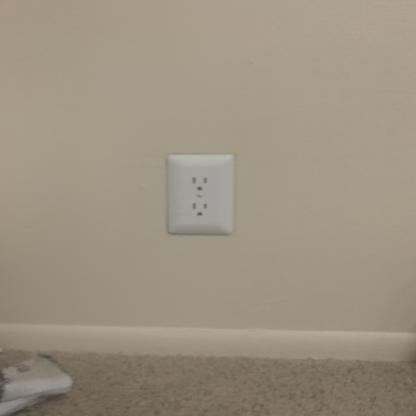OUTLET: (163, 154, 234, 236)
